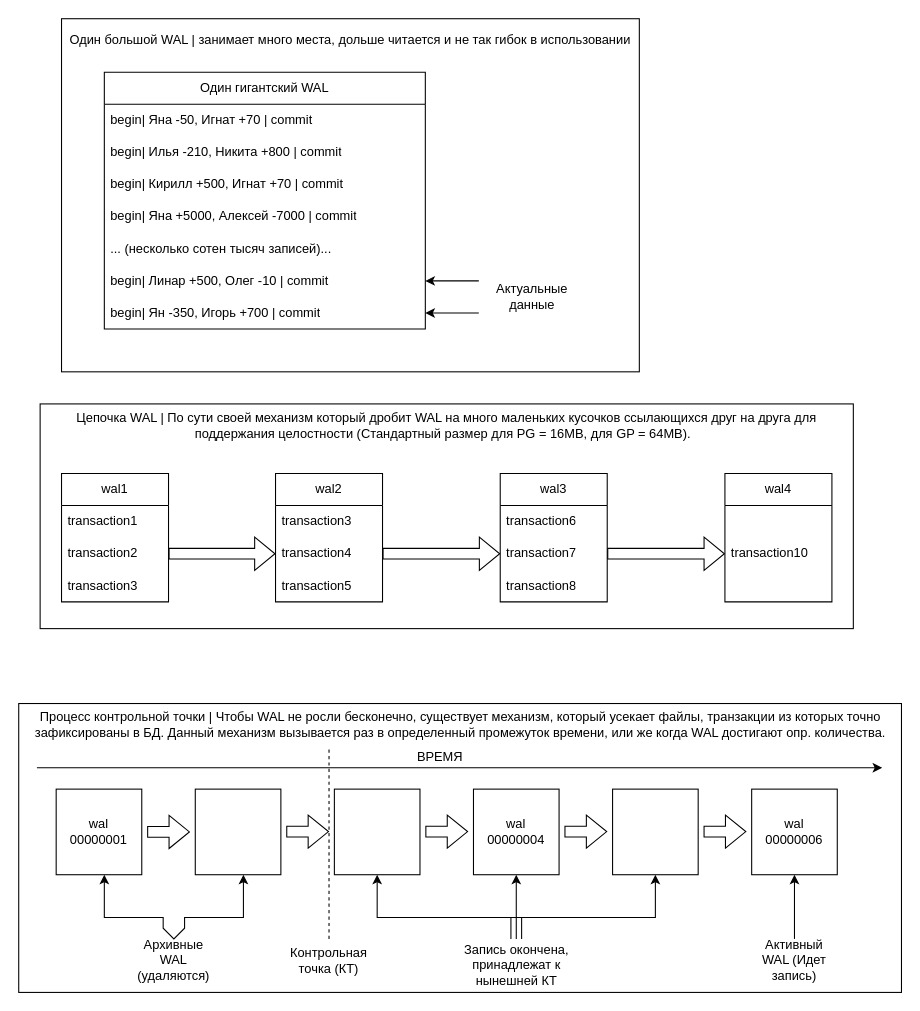
The diagram is 920 pixels wide and 1011 high, and some of its shapes have lost their labels. Here are the shapes that lost their labels. From the top down, the centre of each, then its label:
the point at 237,831: wal 00000002
the point at 376,831: wal 00000003
the point at 655,831: wal 00000005
